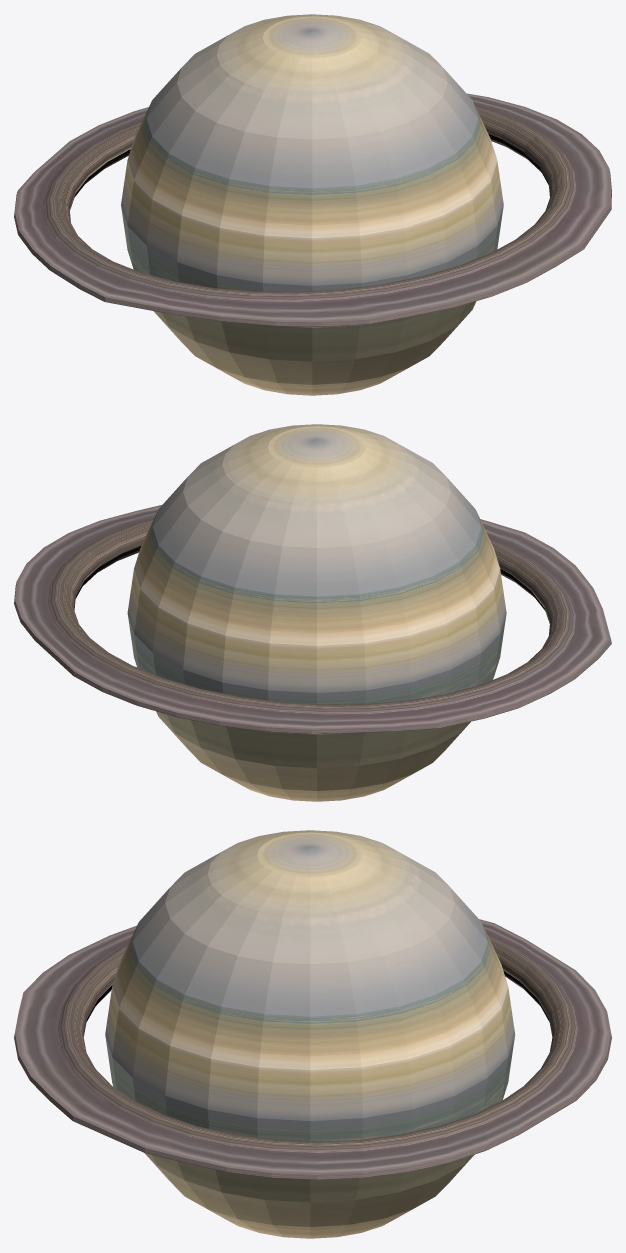
Rendered from Saturno.obj.
3 renders of one model, top to bottom at view 1: azimuth 30°, elevation 25°; view 2: azimuth 150°, elevation 25°; view 3: azimuth 270°, elevation 25°, orthographic. The views are drawn at different scales.
Parts seen in each view (by area): view 1: Saturno; view 2: Saturno; view 3: Saturno.
Part boxes in pixels (left/top/right/bottom): Saturno: left=14, top=14, right=611, bottom=395; Saturno: left=14, top=424, right=611, bottom=801; Saturno: left=14, top=830, right=611, bottom=1238.
Size of the model in its own units: 3.62 by 2.24 by 3.27.
Materials: 2 (2 with a texture image).
